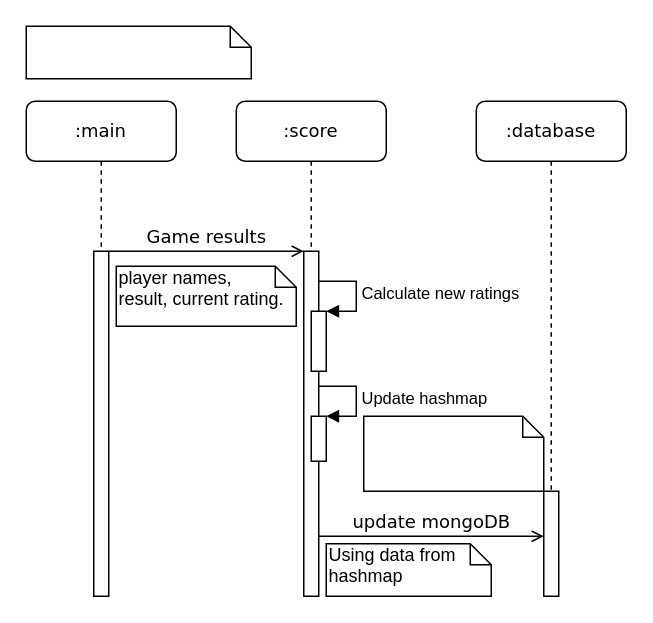
This 653x623 diagram has some shape labels left out. Here are the shapes that lost their labels. From the top down, the box of each, then its label:
(25, 25, 251, 79): Diagram takes place after ending a game
(362, 415, 544, 491): A hashmap is used to temporarily store and update data.
